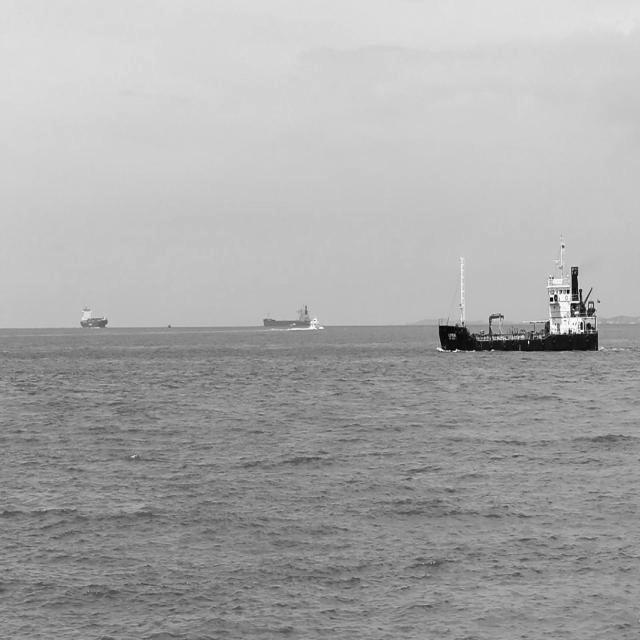ship: (436, 231, 603, 355), (262, 298, 312, 332), (78, 301, 110, 329), (308, 312, 324, 332)
